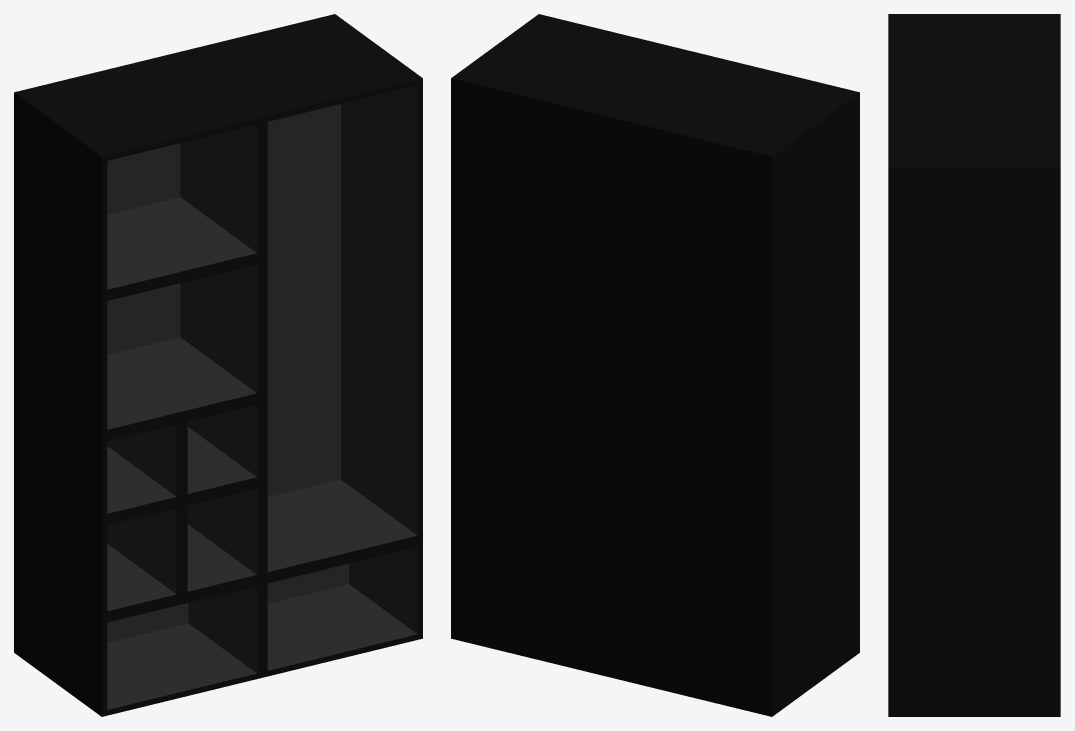
The model's file is Prop_Shelve_03.fbx.
3 views of the same model, side by side, from view 1: azimuth 30°, elevation 25°; view 2: azimuth 150°, elevation 25°; view 3: azimuth 270°, elevation 25° (orthographic).
Parts seen in each view (by area): view 1: Prop_Shelve_03; view 2: Prop_Shelve_03; view 3: Prop_Shelve_03.
Boxes of the visible parts, bbox=[...] form: Prop_Shelve_03: bbox=[14, 14, 422, 716]; Prop_Shelve_03: bbox=[451, 14, 859, 716]; Prop_Shelve_03: bbox=[888, 14, 1060, 716].
Size of the model in its own units: 119 by 198 by 56.29.
